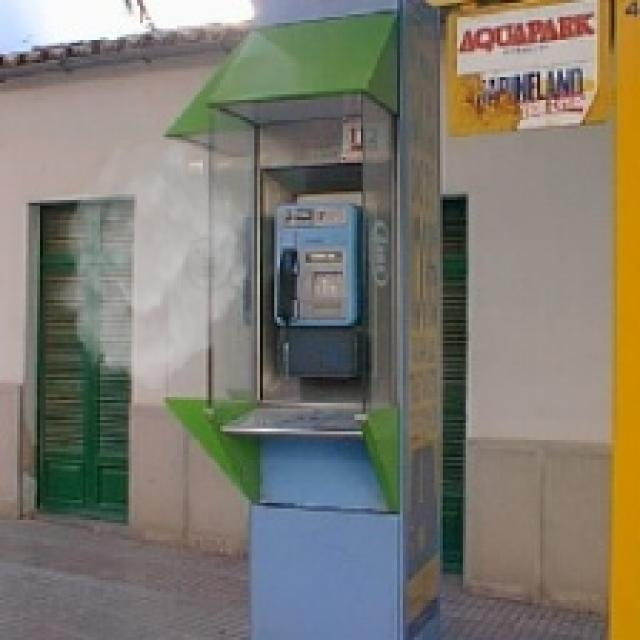smoke: (52, 143, 257, 388)
